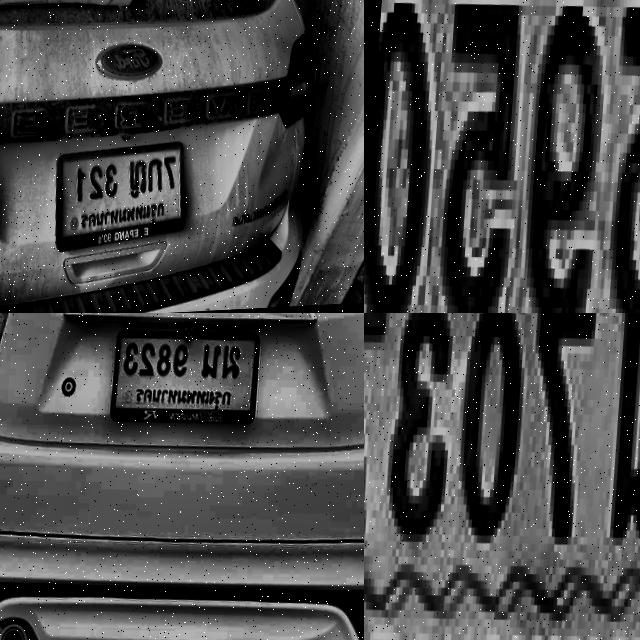license-plate: (364, 313, 640, 640), (364, 0, 640, 313), (49, 135, 192, 266), (107, 324, 259, 436)
